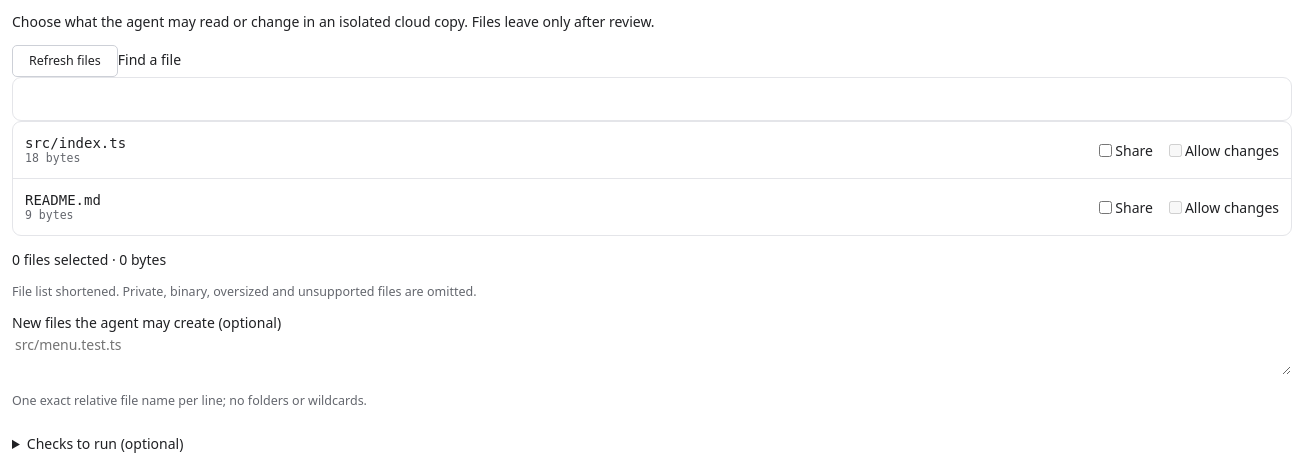
Test case: requires explicit file read and write selection and removes writes when read access is removed
Expected: the checkbox named "Allow changes to src/index.ts" is disabled, [1169,144,1182,156]
Click the checkbox named "Share src/index.ts". click: (1106, 150)
box: [1099,144,1112,156]
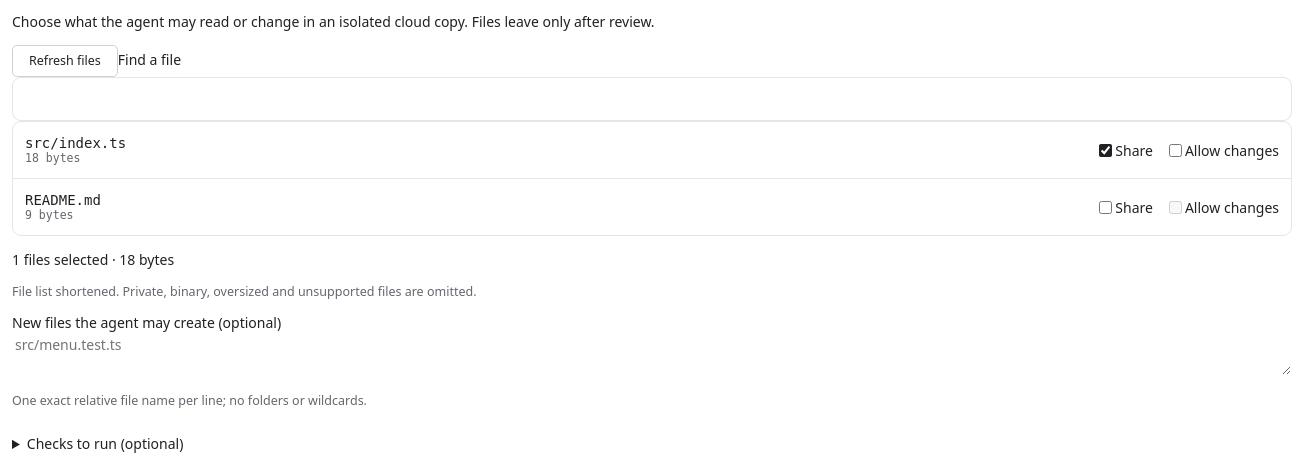
Result: the checkbox named "Allow changes to src/index.ts" is enabled
Click the checkbox named "Allow changes to src/index.ts". click: (1175, 150)
box: [1169,144,1182,156]
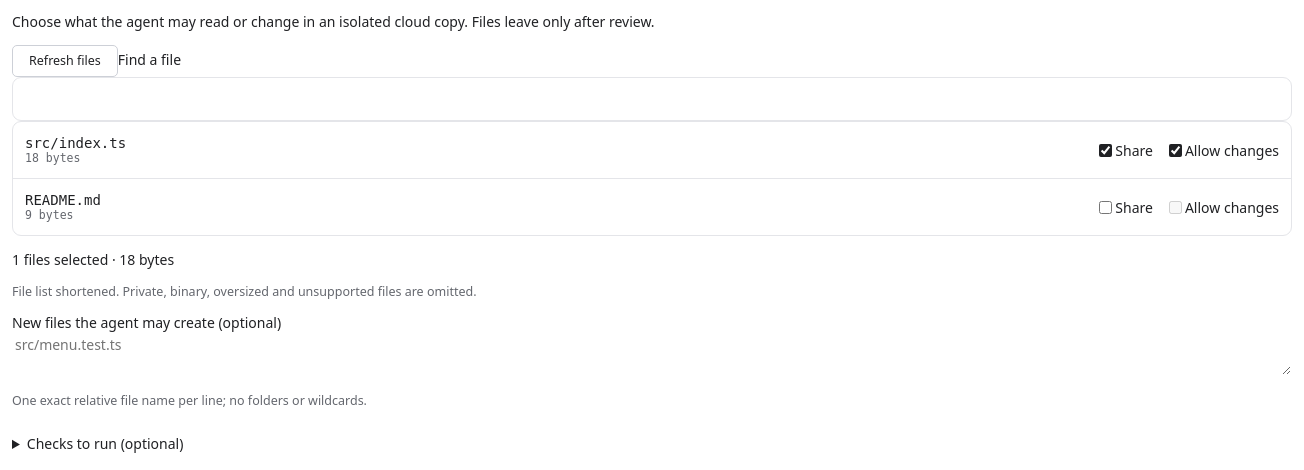
Result: the checkbox named "Allow changes to src/index.ts" is checked at [1169,144,1182,156]
Click the checkbox named "Share src/index.ts". click: (1106, 150)
box: [1099,144,1112,156]
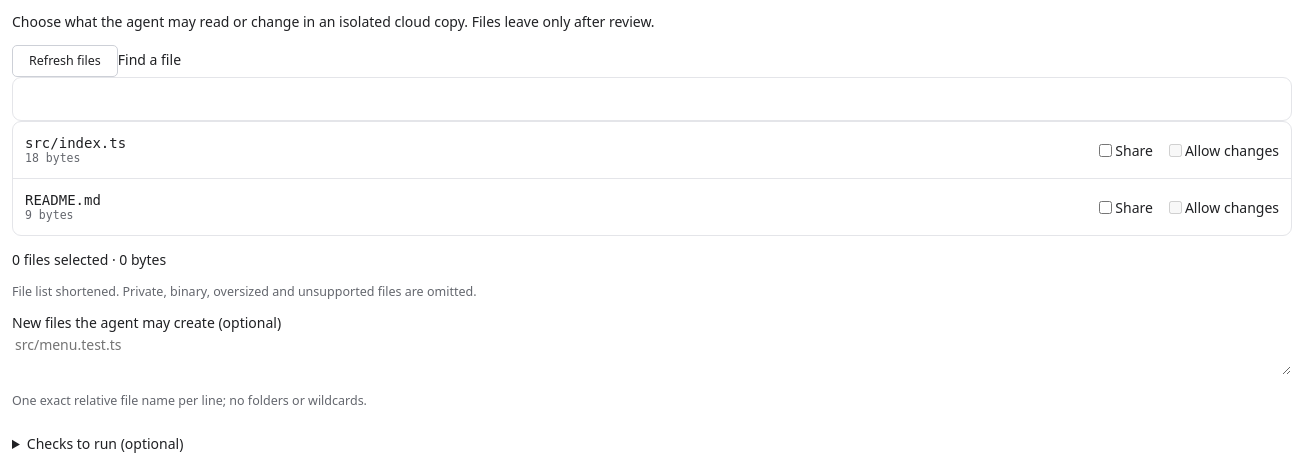
Result: the checkbox named "Allow changes to src/index.ts" is not checked at [1169,144,1182,156]
Result: the checkbox named "Allow changes to src/index.ts" is disabled at [1169,144,1182,156]
